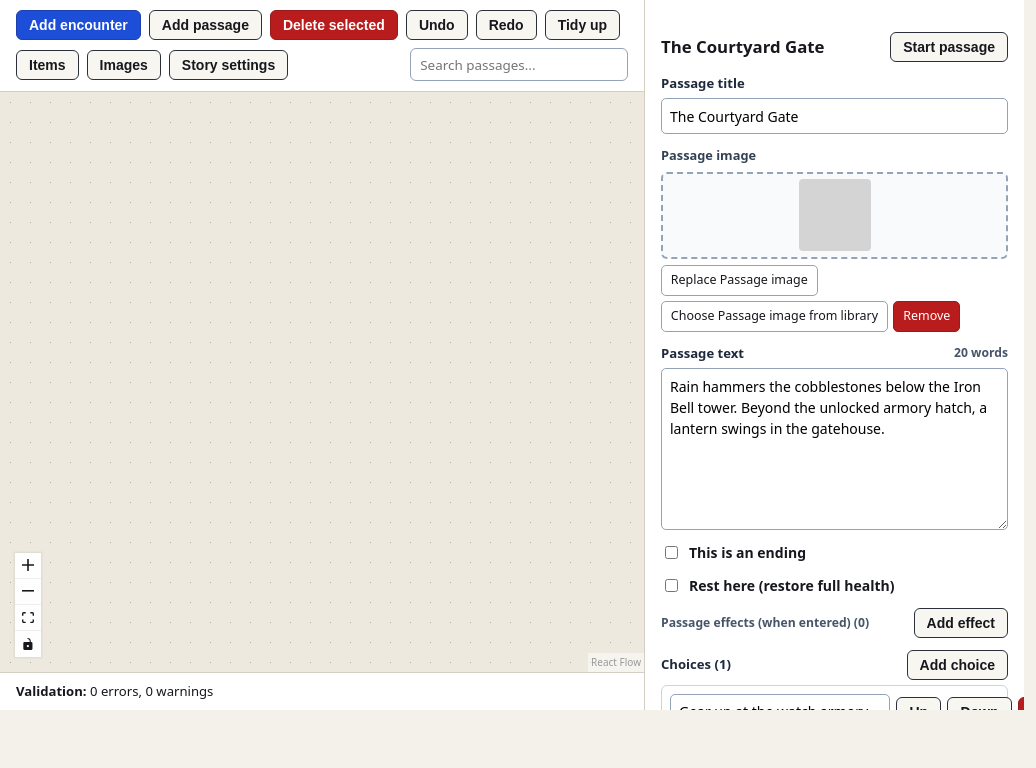
Test: Items tab and item images (#45) › adds a tier 2 weapon with an image, clamps bounds, and lets a passage give it
This screenshot has width=1036, height=768.
Later steps or results of the test are not shown.
Click the button "Items" at [47, 65], box [16,50,79,80]
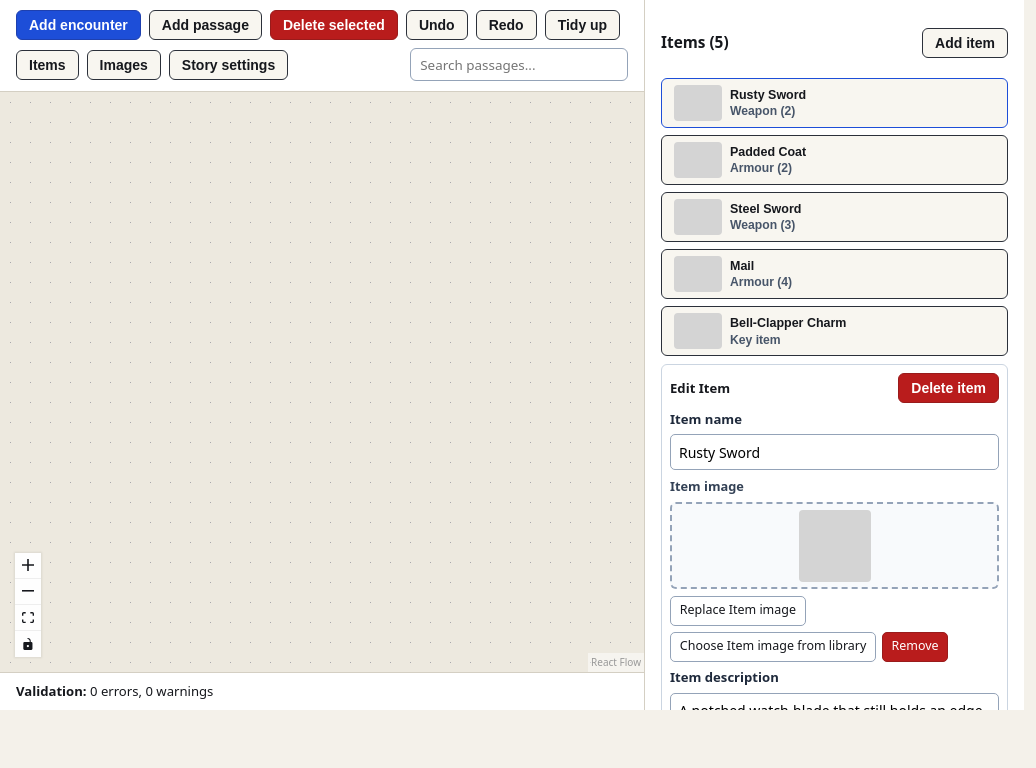
Click the button "Add item" at [965, 43], box [922,28,1008,58]
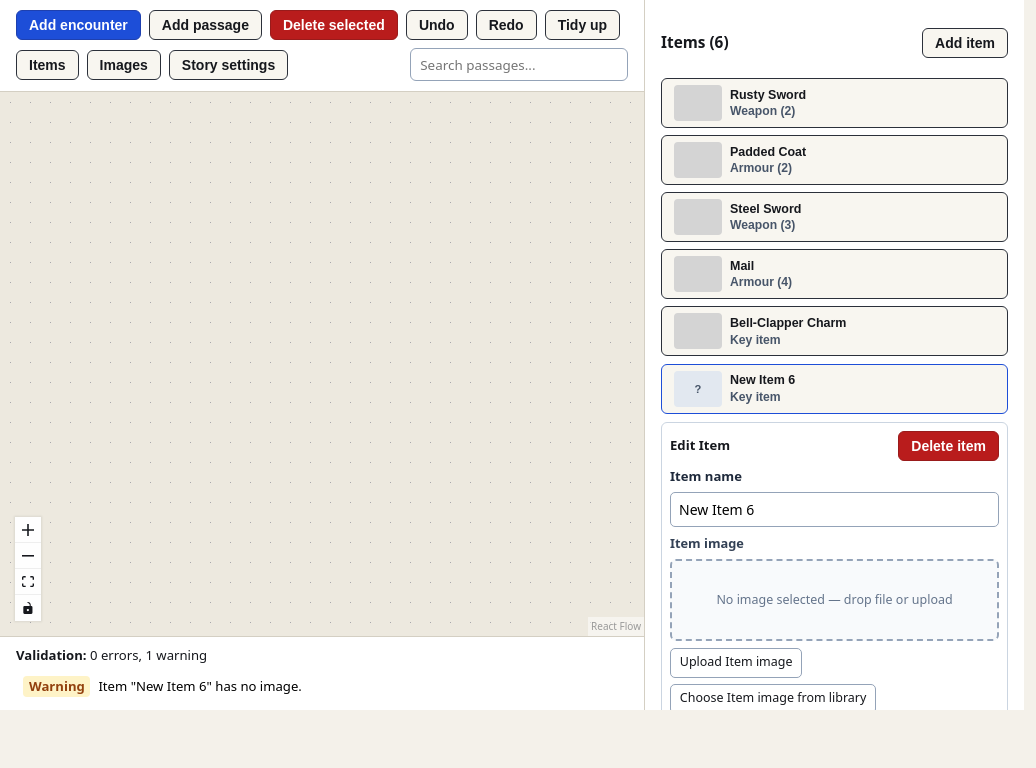
Replace the text in the field labelled "Item name" with "Foundry Halberd" at [834, 509], box [670,492,999,527]
(page scrolled)
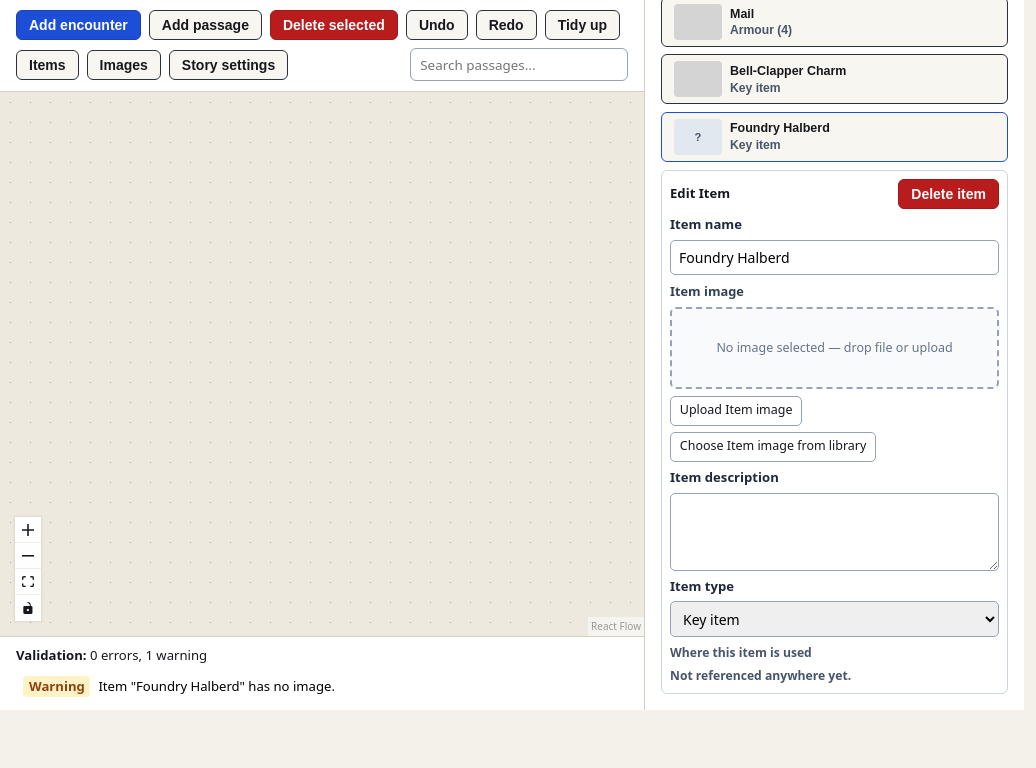
Select "Weapon (damage 1–4)" in the dropdown labelled "Item type" at [834, 619], box [670,601,999,637]
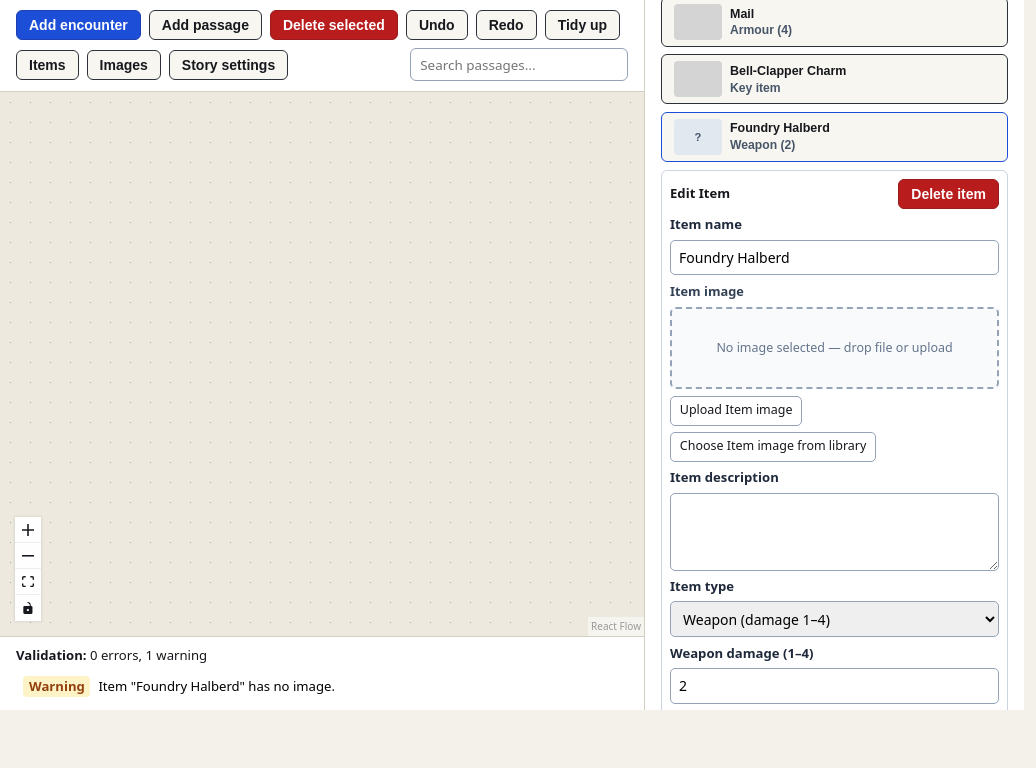
Replace the text in the number field labelled "Weapon damage (1–4)" with "99" at [834, 686], box [670,668,999,704]
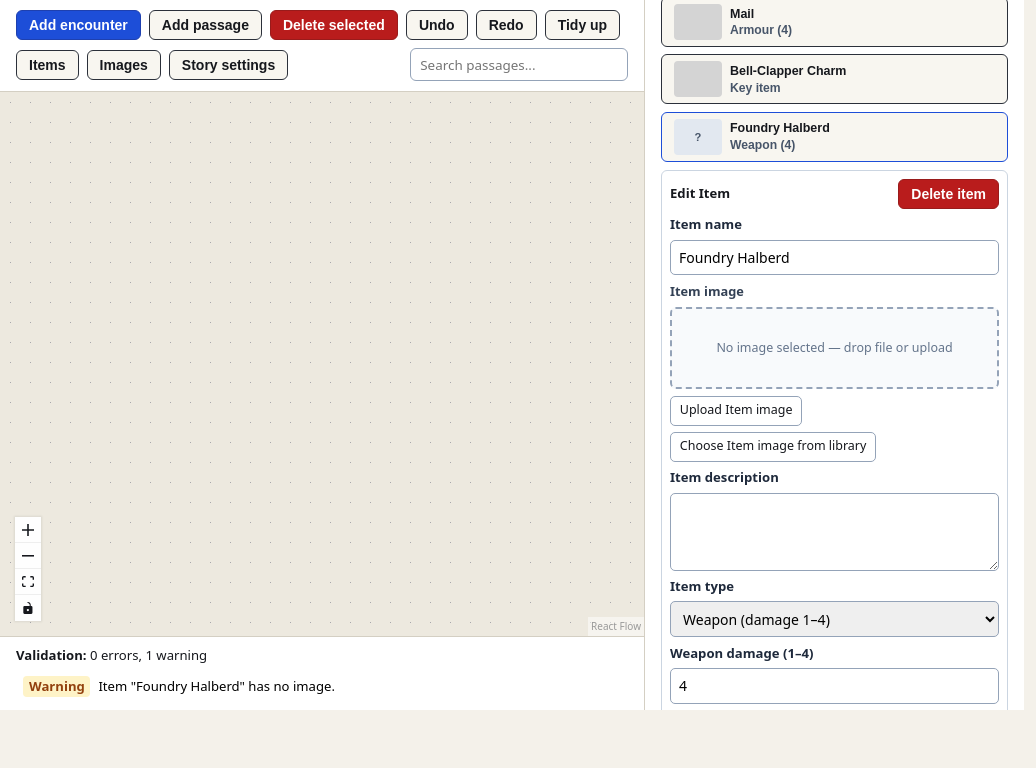
Now the number field labelled "Weapon damage (1–4)" holds "4", box [670,668,999,704]
